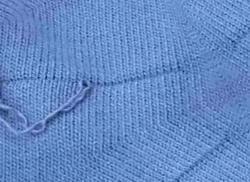snag: (65, 74, 101, 103)
